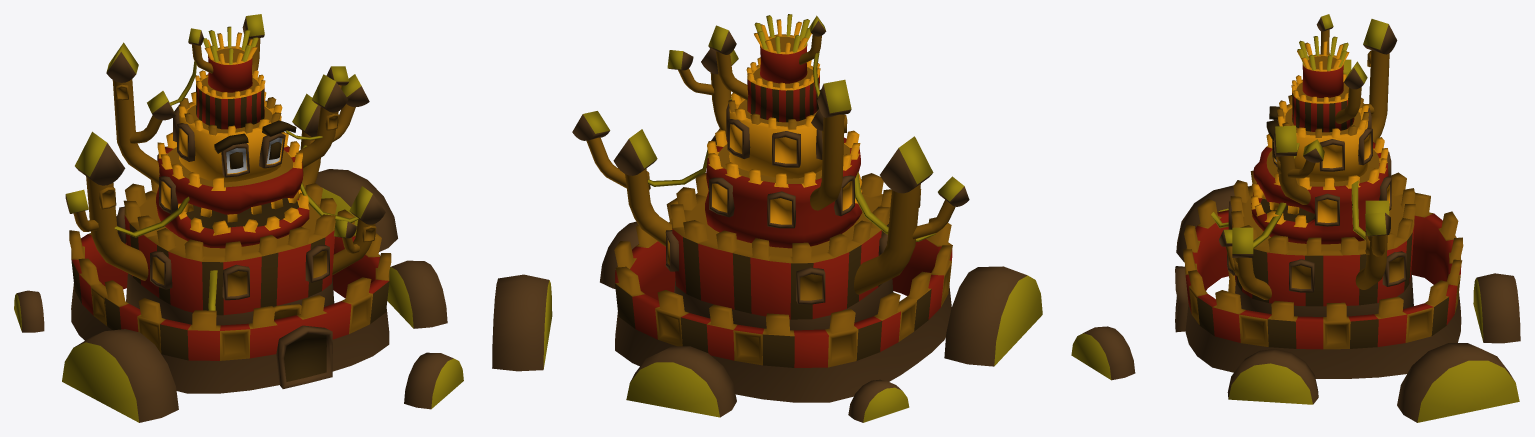
The model's file is castelo.obj.
3 views of the same model, side by side, from view 1: azimuth 30°, elevation 25°; view 2: azimuth 150°, elevation 25°; view 3: azimuth 270°, elevation 25° (orthographic). The views are drawn at different scales.
Parts seen in each view (by area): view 1: muro_Cylinder.001, cabeca_Cylinder, torres_Cylinder.003, base_Cylinder.002, arredores_Cylinder.004; view 2: muro_Cylinder.001, cabeca_Cylinder, arredores_Cylinder.004, base_Cylinder.002, torres_Cylinder.003; view 3: muro_Cylinder.001, arredores_Cylinder.004, cabeca_Cylinder, base_Cylinder.002, torres_Cylinder.003.
Boxes of the visible parts, x1,y1,x2,y2 form: muro_Cylinder.001: (69,196,391,393); cabeca_Cylinder: (156,26,309,248); torres_Cylinder.003: (65,14,385,310); base_Cylinder.002: (117,176,336,325); arredores_Cylinder.004: (14,169,463,422); muro_Cylinder.001: (614,198,952,402); cabeca_Cylinder: (705,14,862,248); arredores_Cylinder.004: (492,221,1042,422); base_Cylinder.002: (665,172,893,330); torres_Cylinder.003: (572,15,969,294); muro_Cylinder.001: (1175,192,1463,378); arredores_Cylinder.004: (1071,185,1520,422); cabeca_Cylinder: (1251,36,1391,244); base_Cylinder.002: (1227,170,1415,316); torres_Cylinder.003: (1211,14,1397,299).
Size of the model in its own units: 9.56 by 7.01 by 9.75.
